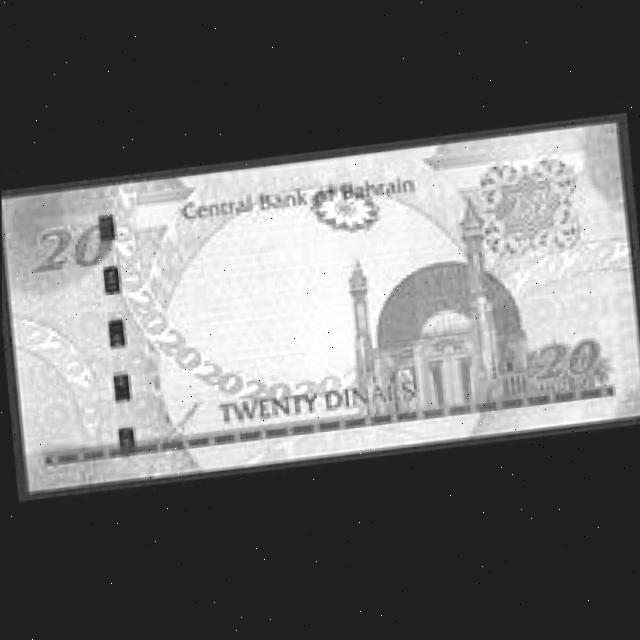banknote: (1, 117, 640, 498)
